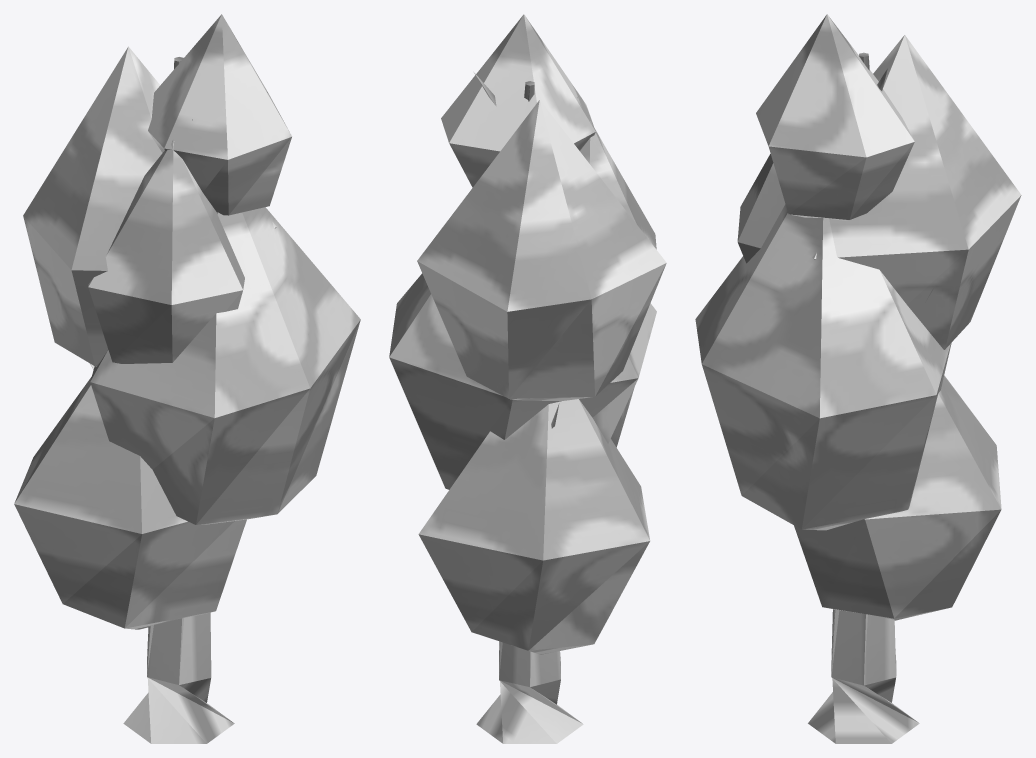
Rendered from tree_poplar_1.obj.
The picture shows the model from 3 angles, left to right: view 1: azimuth 30°, elevation 25°; view 2: azimuth 150°, elevation 25°; view 3: azimuth 270°, elevation 25°; orthographic projection. The views are drawn at different scales.
Visible parts, largest first — view 1: tree_poplar_1; view 2: tree_poplar_1; view 3: tree_poplar_1.
Part boxes in pixels (bbox=[...]): tree_poplar_1: bbox=[14, 14, 360, 743]; tree_poplar_1: bbox=[389, 14, 666, 743]; tree_poplar_1: bbox=[695, 14, 1021, 743].
Size of the model in its own units: 0.4737 by 1.07 by 0.4363.
